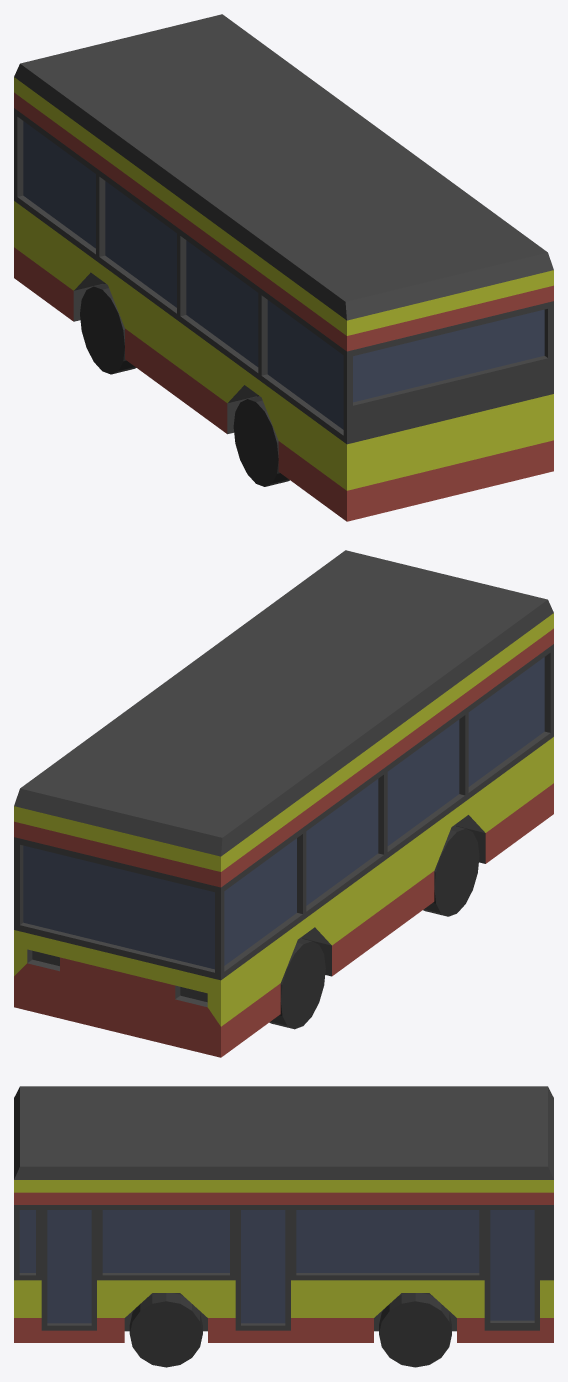
File: bus.fbx
3 views of the same model, one above another, from view 1: azimuth 30°, elevation 25°; view 2: azimuth 150°, elevation 25°; view 3: azimuth 270°, elevation 25° (orthographic). The views are drawn at different scales.
Parts seen in each view (by area): view 1: Cube, Cube.002, Cube.003, Cube.001, Cylinder.003, Cylinder.002; view 2: Cube, Cube.003, Cube.001, Cube.002, Cylinder.002, Cylinder.003; view 3: Cube, Cube.003, Cube.002, Cube.001, Cylinder.001, Cylinder.
Boxes of the visible parts, left/top/right/bottom form: Cube: left=14, top=14, right=553, bottom=444; Cube.002: left=14, top=77, right=553, bottom=490; Cube.003: left=23, top=121, right=544, bottom=429; Cube.001: left=14, top=92, right=553, bottom=521; Cylinder.003: left=233, top=396, right=289, bottom=486; Cylinder.002: left=80, top=283, right=136, bottom=374; Cube: left=14, top=550, right=553, bottom=1007; Cube.003: left=23, top=657, right=544, bottom=969; Cube.001: left=14, top=628, right=553, bottom=1057; Cube.002: left=14, top=613, right=553, bottom=1026; Cylinder.002: left=269, top=938, right=325, bottom=1029; Cylinder.003: left=423, top=826, right=479, bottom=916; Cube: left=14, top=1086, right=553, bottom=1331; Cube.003: left=19, top=1210, right=534, bottom=1323; Cube.002: left=14, top=1180, right=553, bottom=1317; Cube.001: left=14, top=1192, right=553, bottom=1342; Cylinder.001: left=129, top=1293, right=202, bottom=1367; Cylinder: left=379, top=1293, right=451, bottom=1367.
Bounding box in the file's own units: 700 × 802 × 1950.
